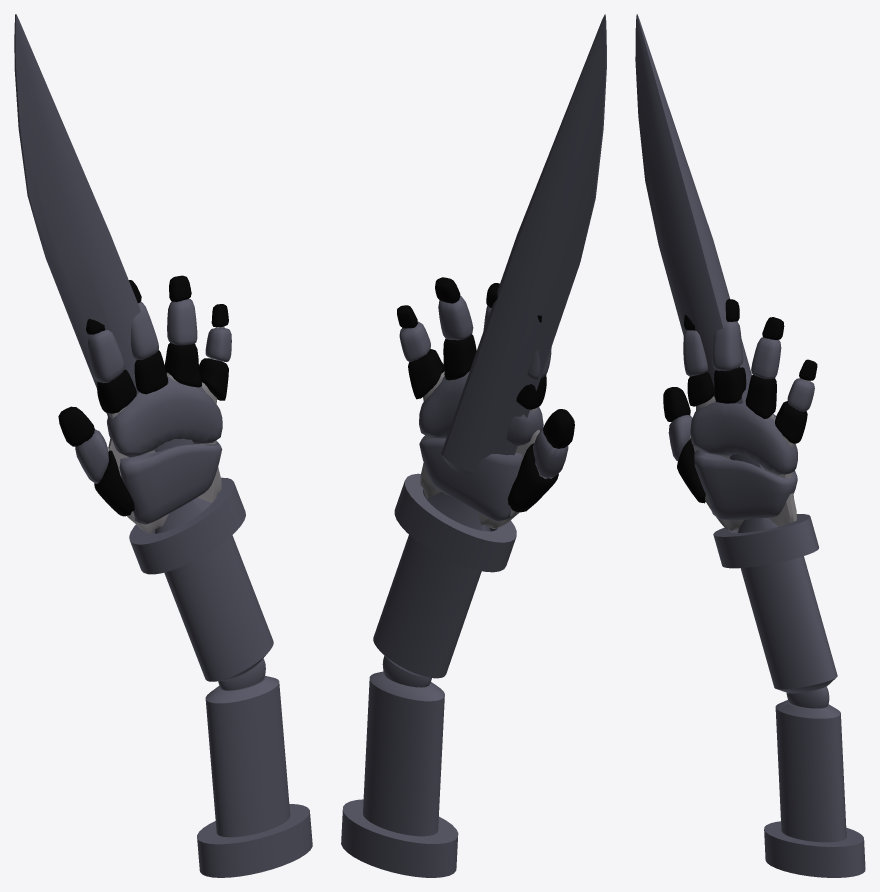
The model's file is Arm 1.fbx.
The picture shows the model from 3 angles, left to right: view 1: azimuth 30°, elevation 25°; view 2: azimuth 150°, elevation 25°; view 3: azimuth 330°, elevation 25°; orthographic projection. The views are drawn at different scales.
Parts seen in each view (by area): view 1: Cube.002, ForeArm.001, Shoulder, ForeArm, Cube.003, Elbow; view 2: ForeArm.001, Cube.002, Shoulder, ForeArm, Cube.003, Elbow; view 3: Cube.002, ForeArm.001, Shoulder, ForeArm, Cube.003, Elbow.
Boxes of the visible parts, x1,y1,x2,y2 form: Cube.002: [58, 275, 231, 524]; ForeArm.001: [14, 14, 211, 533]; Shoulder: [197, 675, 312, 877]; ForeArm: [129, 477, 273, 681]; Cube.003: [107, 326, 224, 533]; Elbow: [218, 658, 265, 690]; ForeArm.001: [426, 14, 606, 531]; Cube.002: [397, 277, 574, 521]; Shoulder: [341, 671, 458, 877]; ForeArm: [373, 473, 516, 678]; Cube.003: [420, 353, 539, 528]; Elbow: [382, 656, 431, 687]; Cube.002: [663, 299, 817, 520]; ForeArm.001: [635, 14, 777, 532]; Shoulder: [764, 700, 865, 877]; ForeArm: [713, 514, 837, 693]; Cube.003: [689, 378, 810, 530]; Elbow: [786, 686, 829, 708].
Size of the model in its own units: 534 by 1644 by 137.
